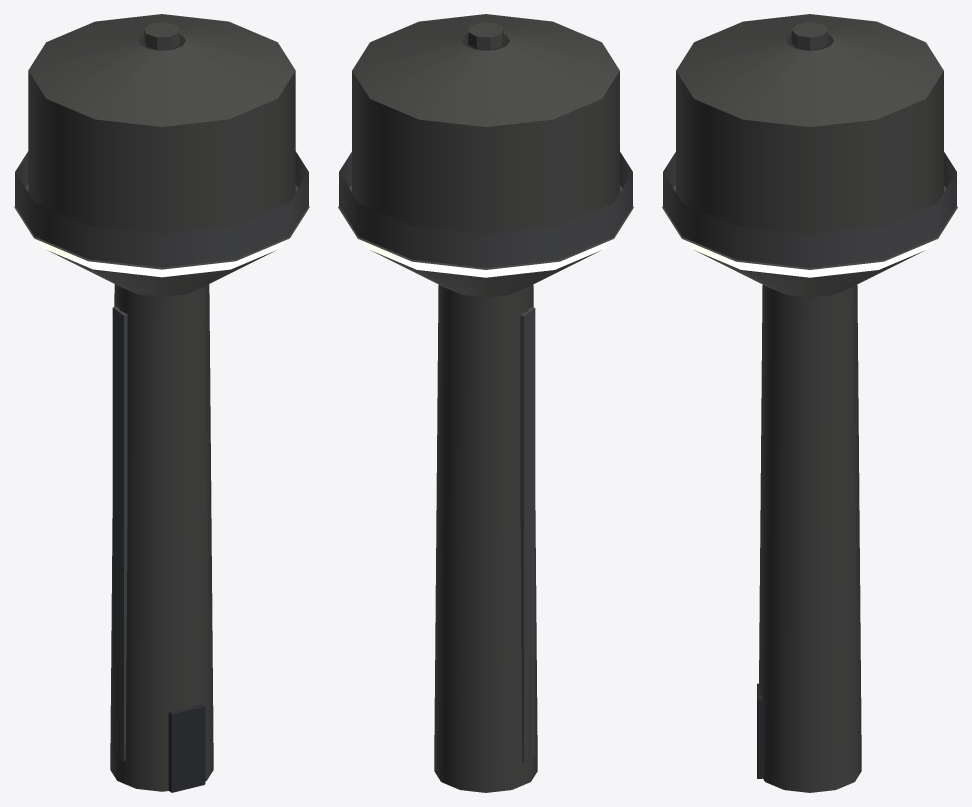
Rendered from landmark_chateau_eau.glb.
3 views of the same model, side by side, from view 1: azimuth 30°, elevation 25°; view 2: azimuth 150°, elevation 25°; view 3: azimuth 270°, elevation 25° (orthographic).
Parts seen in each view (by area): view 1: EAU_Tour, EAU_GardeCorps, EAU_Echelle, EAU_Porte, EAU_Couronne_Lit, EAU_Event, EAU_Passerelle; view 2: EAU_Tour, EAU_GardeCorps, EAU_Echelle, EAU_Couronne_Lit, EAU_Event, EAU_Passerelle; view 3: EAU_Tour, EAU_GardeCorps, EAU_Couronne_Lit, EAU_Event, EAU_Passerelle, EAU_Porte.
Boxes of the visible parts, x1,y1,x2,y2 form: EAU_Tour: (28, 14, 295, 791); EAU_GardeCorps: (15, 151, 308, 267); EAU_Echelle: (112, 306, 127, 760); EAU_Porte: (168, 704, 205, 792); EAU_Couronne_Lit: (38, 240, 285, 277); EAU_Event: (144, 22, 179, 50); EAU_Passerelle: (14, 185, 309, 269); EAU_Tour: (352, 14, 619, 792); EAU_GardeCorps: (339, 152, 632, 267); EAU_Echelle: (520, 307, 535, 761); EAU_Couronne_Lit: (361, 240, 610, 277); EAU_Event: (468, 22, 503, 50); EAU_Passerelle: (338, 186, 633, 269); EAU_Tour: (676, 14, 943, 792); EAU_GardeCorps: (663, 152, 956, 267); EAU_Couronne_Lit: (685, 240, 934, 277); EAU_Event: (791, 22, 828, 50); EAU_Passerelle: (662, 186, 957, 269); EAU_Porte: (757, 683, 762, 778).
Bounding box in the file's own units: 6.74 × 18.62 × 6.74.
